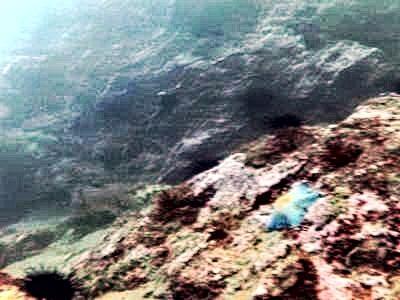urchin: (17, 265, 80, 297)
